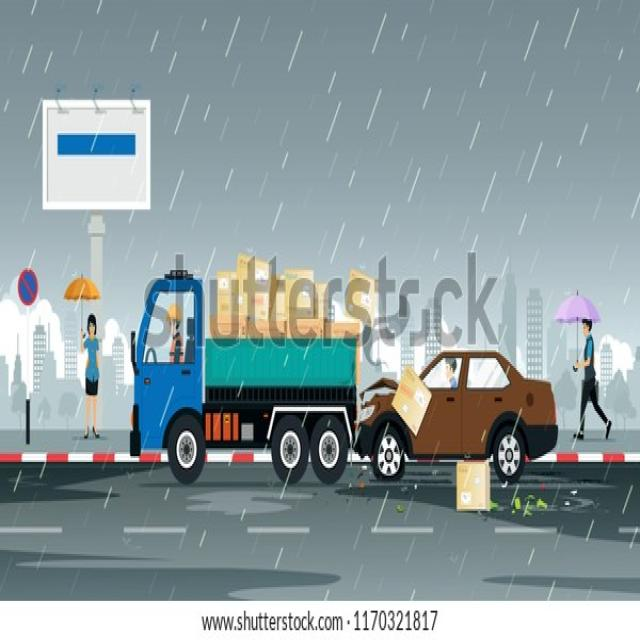Accident: (127, 250, 558, 507)
